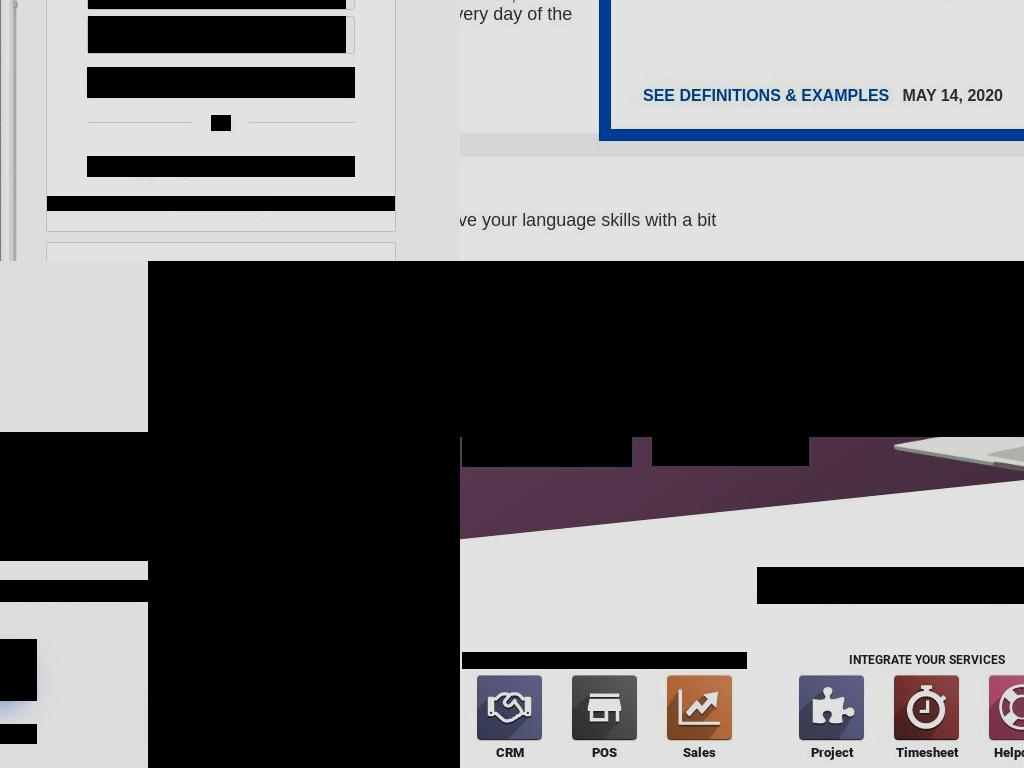button: (87, 67, 355, 98), (462, 423, 632, 467), (652, 424, 809, 466), (794, 675, 870, 760), (889, 675, 965, 760), (472, 675, 547, 760), (567, 675, 642, 760), (662, 675, 737, 760), (87, 156, 355, 177), (47, 196, 395, 211), (643, 87, 903, 105), (984, 675, 1024, 760)
field: (88, 16, 346, 53), (88, 0, 346, 9)
heading: (0, 432, 268, 561), (462, 261, 967, 294), (460, 181, 731, 206), (868, 567, 1024, 604), (800, 567, 869, 604), (757, 567, 801, 604)
iframe: (779, 181, 1024, 261)
image: (148, 261, 460, 768), (460, 261, 1024, 437), (799, 675, 865, 740), (894, 675, 960, 740), (477, 675, 542, 740), (572, 675, 637, 740), (667, 675, 732, 740), (880, 302, 974, 333), (989, 675, 1024, 740), (137, 159, 154, 176)
link: (566, 379, 697, 398), (648, 414, 782, 431), (462, 510, 593, 527), (462, 414, 592, 431), (462, 581, 587, 598), (648, 510, 762, 527), (462, 481, 566, 498), (648, 491, 738, 508), (835, 558, 921, 575), (835, 414, 920, 431), (462, 433, 544, 450), (462, 667, 543, 684), (835, 577, 910, 594), (835, 500, 905, 517), (648, 539, 713, 556), (462, 629, 525, 646), (895, 745, 958, 760), (648, 462, 703, 479), (835, 625, 889, 642), (648, 443, 700, 460), (835, 433, 886, 450), (880, 606, 928, 623), (462, 648, 508, 665), (835, 462, 879, 479), (462, 600, 505, 617), (462, 452, 503, 469), (936, 606, 974, 623), (810, 745, 853, 760), (835, 606, 872, 623), (835, 529, 867, 546), (835, 481, 865, 498), (683, 745, 716, 760), (897, 625, 924, 642), (994, 745, 1024, 760), (495, 745, 524, 760), (592, 745, 617, 760)
text: (460, 210, 731, 250), (902, 1, 1003, 105), (96, 16, 346, 53), (462, 326, 869, 345), (462, 305, 849, 324), (0, 580, 268, 602), (460, 0, 583, 44), (462, 652, 747, 669), (97, 73, 345, 92), (784, 652, 1024, 669), (161, 159, 306, 176), (643, 87, 785, 104), (96, 0, 346, 9), (462, 379, 556, 401), (462, 546, 554, 568), (785, 87, 890, 104), (835, 379, 907, 401), (648, 379, 719, 401), (482, 379, 558, 398), (479, 435, 550, 455), (550, 435, 615, 455), (211, 115, 231, 131), (871, 606, 881, 623), (927, 606, 937, 623), (888, 625, 898, 642)
